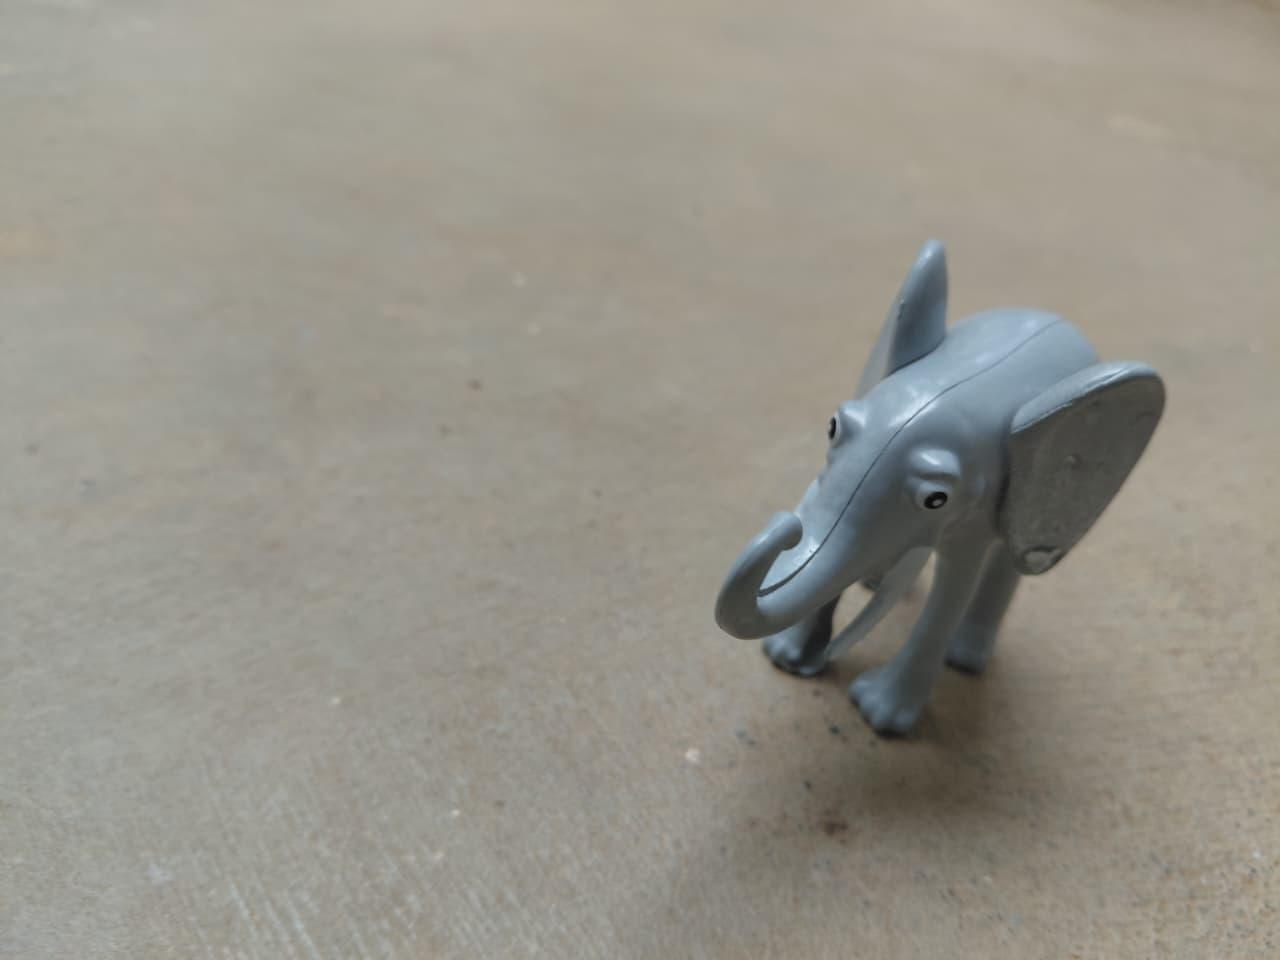elephant: (706, 240, 1168, 746)
